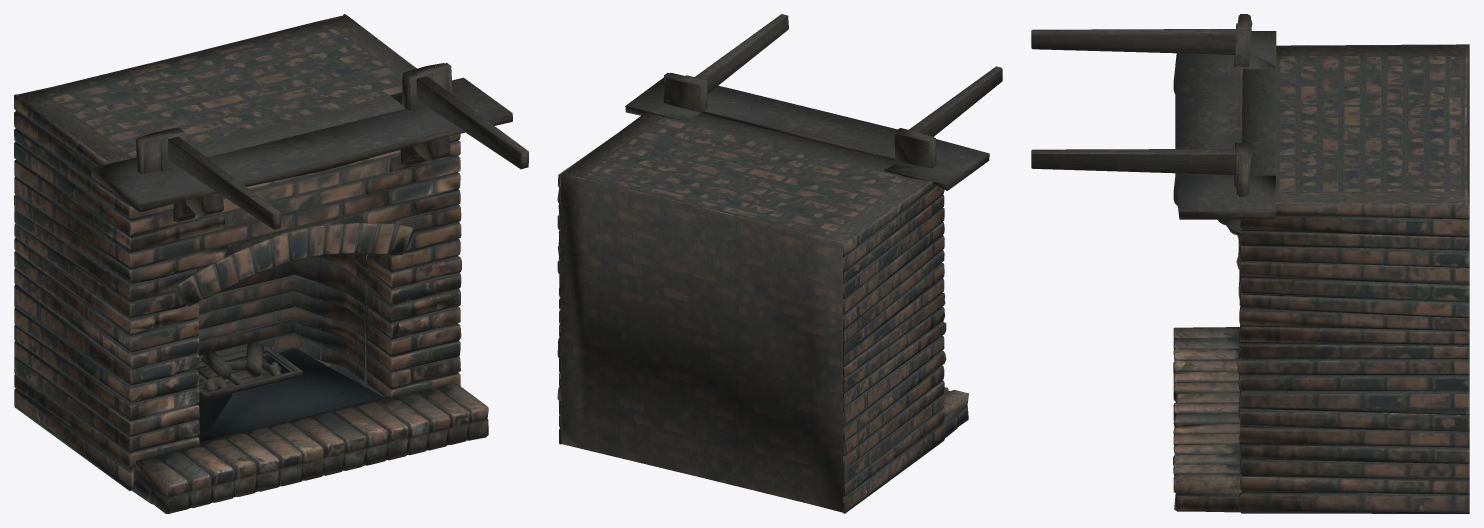
File: fireplace.glb
The picture shows the model from 3 angles, left to right: view 1: azimuth 30°, elevation 25°; view 2: azimuth 150°, elevation 25°; view 3: azimuth 270°, elevation 25°; orthographic projection. The views are drawn at different scales.
Size of the model in its own units: 0.9321 by 0.8305 by 0.9565.
1 material, 1 textured.
